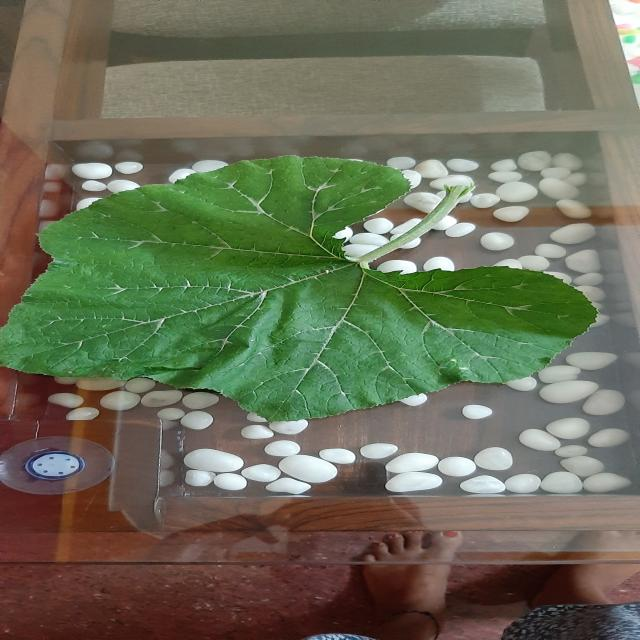pumpkin: (3, 156, 596, 421)
